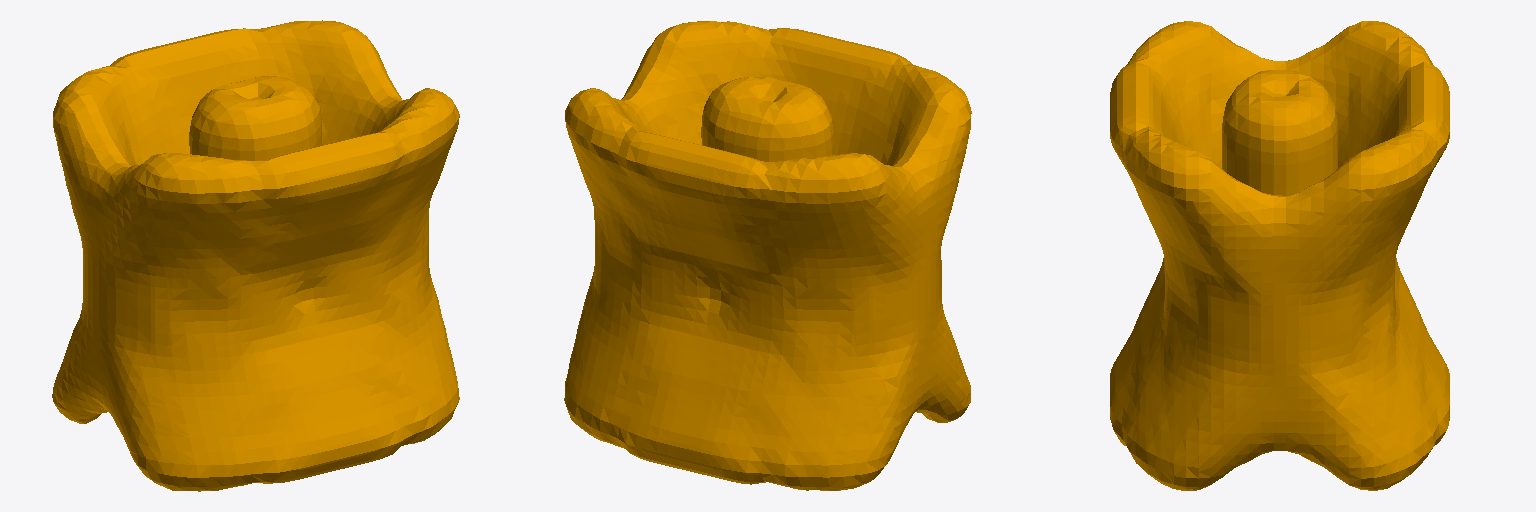
URDF robot description (object):
<?xml version="1.0"?>
        <robot name="object">
          <link name="object">
            <visual>
              <origin xyz="0.0 0.0 0.0"/>
              <geometry>
                <mesh filename="F1.stl" scale="1.00 1.00 1.00"/>
              </geometry>
            </visual>
            <collision>
              <origin xyz="0.0 0.0 0.0"/>
              <geometry>
                <mesh filename="F1.stl" scale="1.00 1.00 1.00"/>
              </geometry>
            </collision>
          </link>
        </robot>

--- Facts derived from the render (not from the file) ---
The picture shows the robot from 3 angles, left to right: view 1: azimuth 30°, elevation 25°; view 2: azimuth 150°, elevation 25°; view 3: azimuth 270°, elevation 25°; orthographic projection.
Robot: object — 1 links, 0 joints (none); root link object; default pose: all joints at 0.
Visible links, largest first — view 1: object; view 2: object; view 3: object.
Boxes of the visible links, x1=… form: object: x1=52, y1=20, x2=459, y2=491; object: x1=564, y1=21, x2=971, y2=490; object: x1=1110, y1=21, x2=1449, y2=490.
Size in the robot's own frame: 0.1 by 0.0905 by 0.0991 metres.
Meshes: 1 distinct files referenced, 1 mesh visuals loaded (1 binary STL).